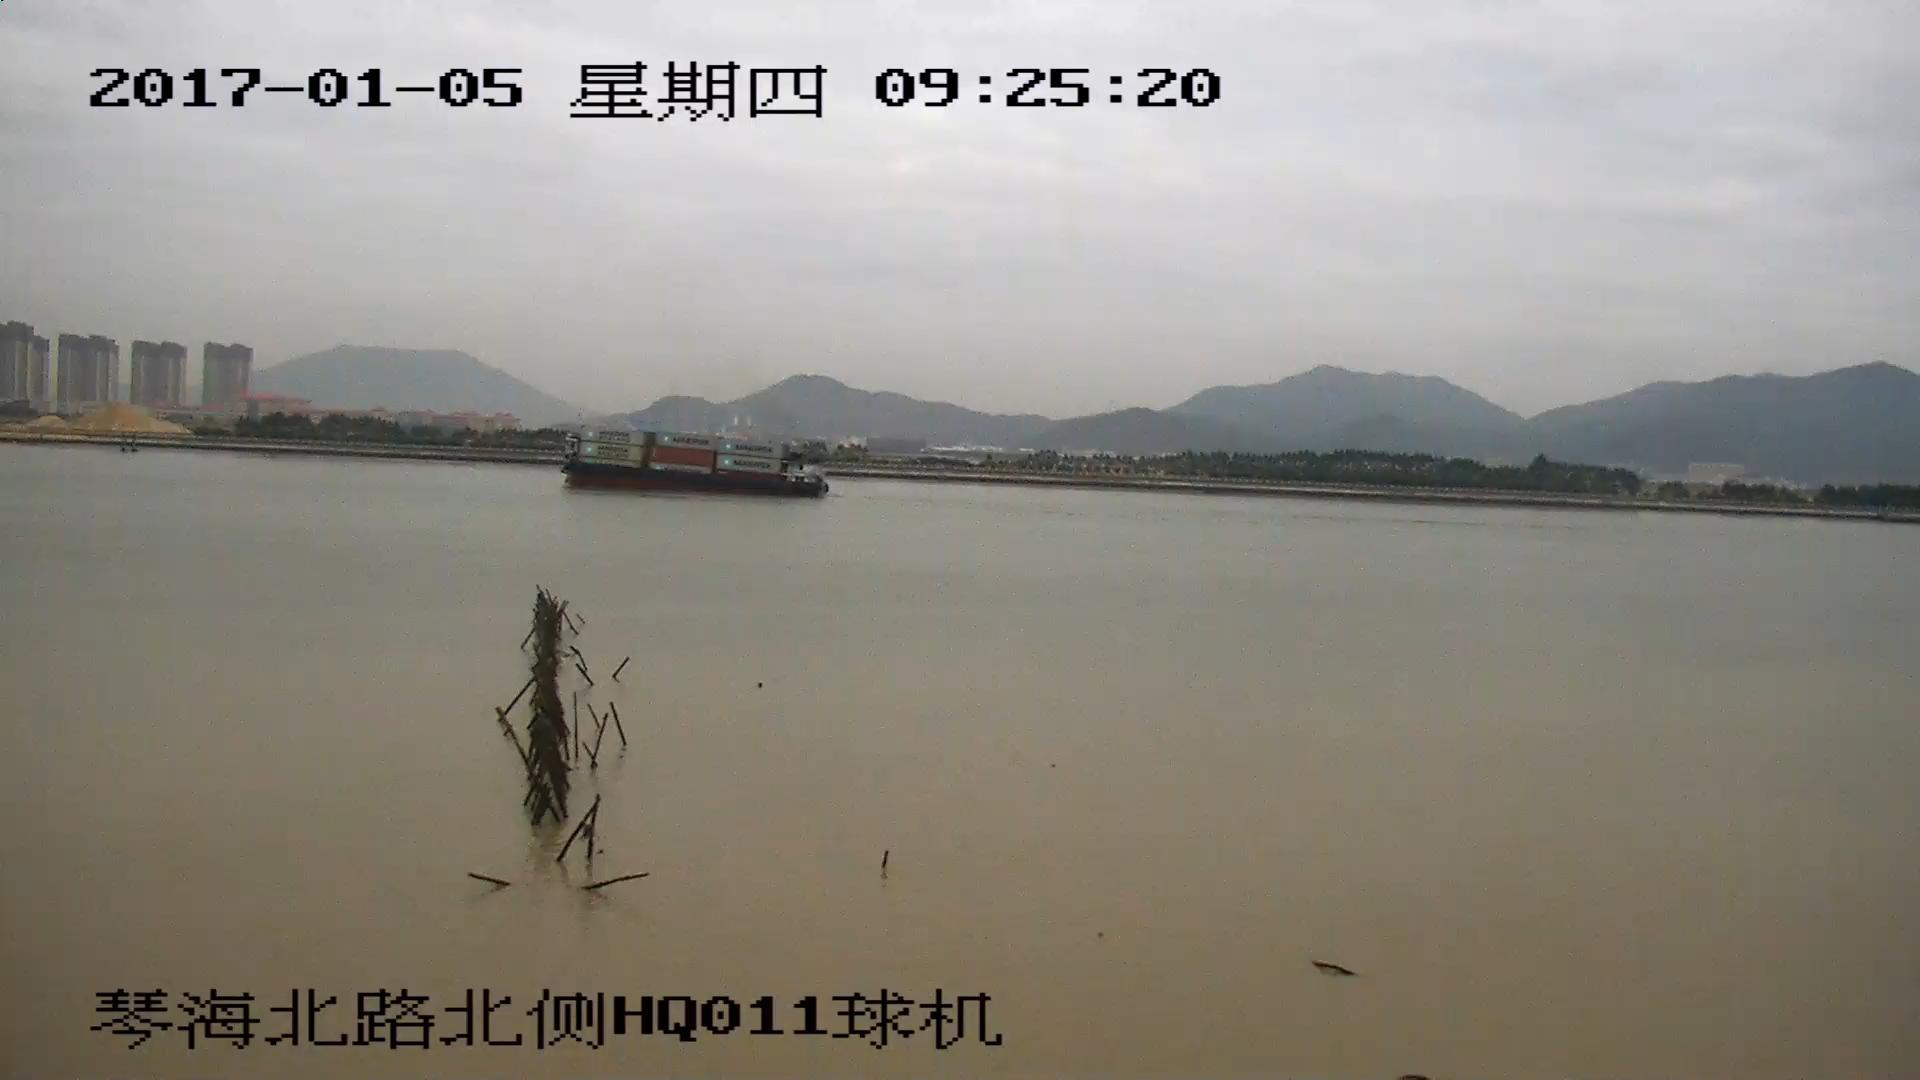Ship: (555, 427, 823, 501)
